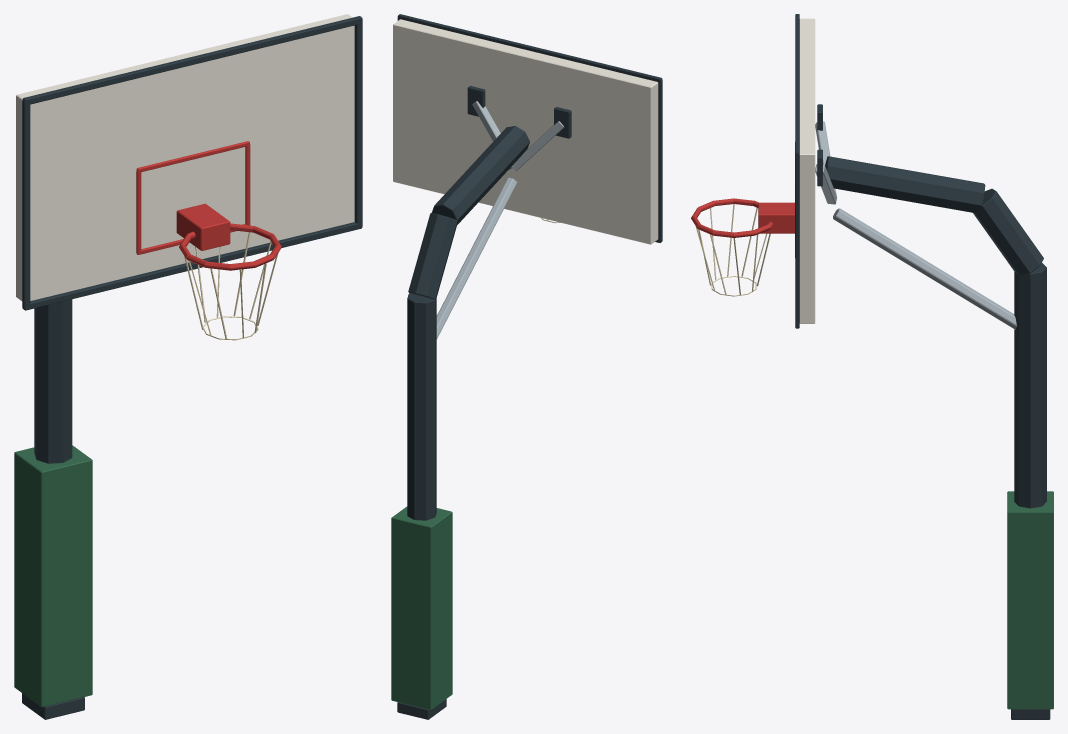
File: b09_basketball_gooseneck_pole.glb
3 views of the same model, side by side, from view 1: azimuth 30°, elevation 25°; view 2: azimuth 150°, elevation 25°; view 3: azimuth 270°, elevation 25° (orthographic). The views are drawn at different scales.
Visible parts, largest first — view 1: b09_basketball_gooseneck_pole; view 2: b09_basketball_gooseneck_pole; view 3: b09_basketball_gooseneck_pole.
Part boxes in pixels (left/top/right/bottom): b09_basketball_gooseneck_pole: left=14, top=14, right=362, bottom=719; b09_basketball_gooseneck_pole: left=391, top=14, right=662, bottom=719; b09_basketball_gooseneck_pole: left=691, top=14, right=1053, bottom=719.
Size of the model in its own units: 1.83 by 3.89 by 2.03.
